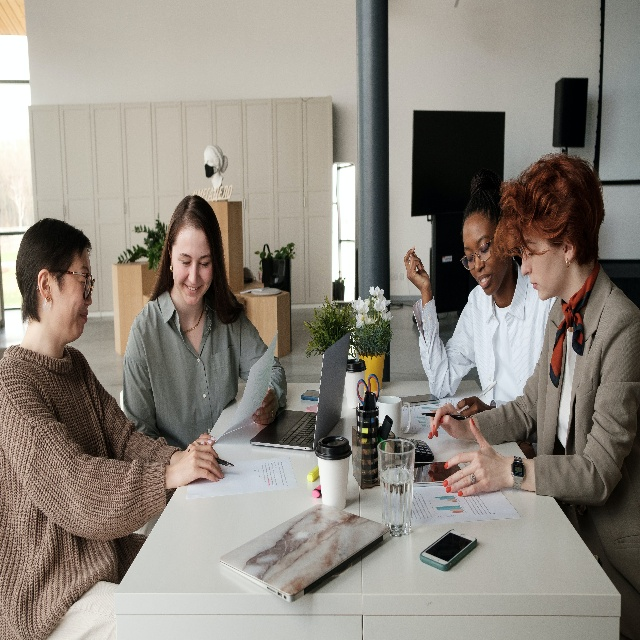Gafas: (460, 240, 493, 270), (82, 271, 97, 299)
Sin_guantes: (443, 417, 508, 499), (172, 444, 223, 484), (427, 403, 470, 446), (404, 246, 431, 291), (252, 390, 277, 426), (457, 395, 492, 417), (195, 431, 216, 446)
